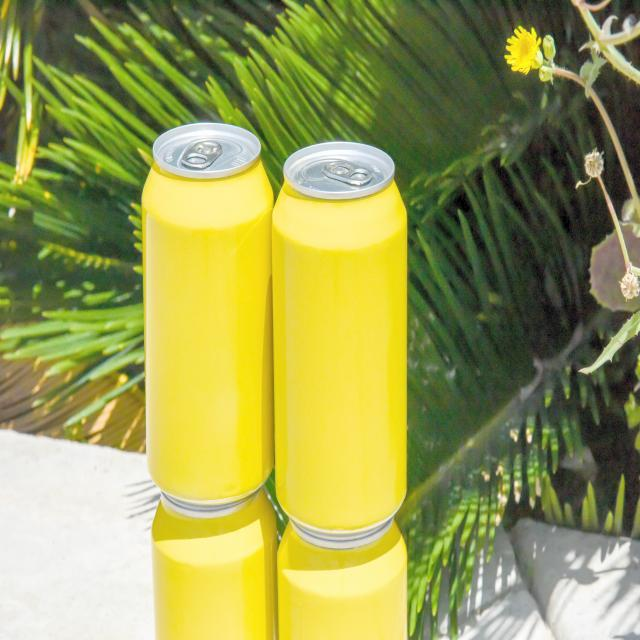cans: (130, 92, 430, 542)
